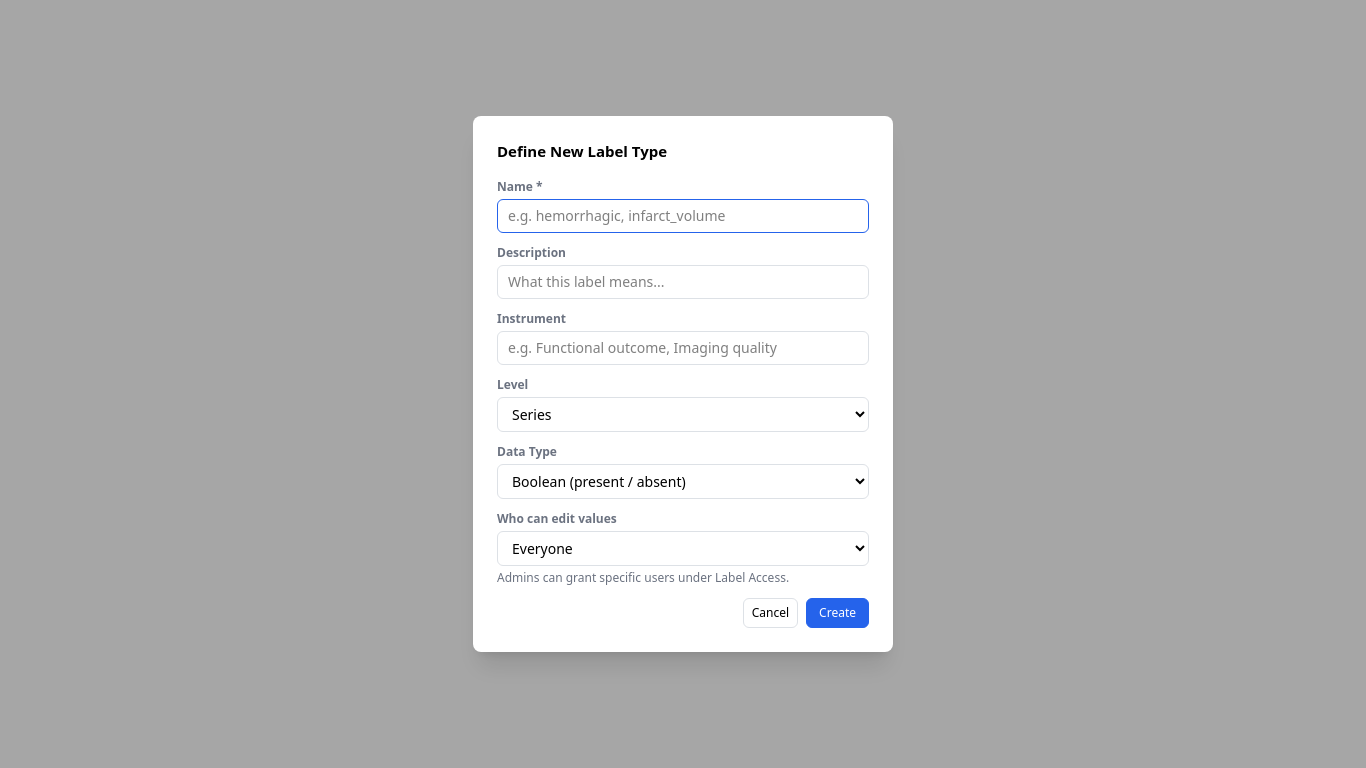
it: LabelDefModal › create mode rejects an invalid name with an error naming the field
This screenshot has width=1366, height=768.
Type "my label" into the field with placeholder "e.g. hemorrhagic, infarct_volume".
click(683, 216); type("my label")  # box [497,198,869,232]
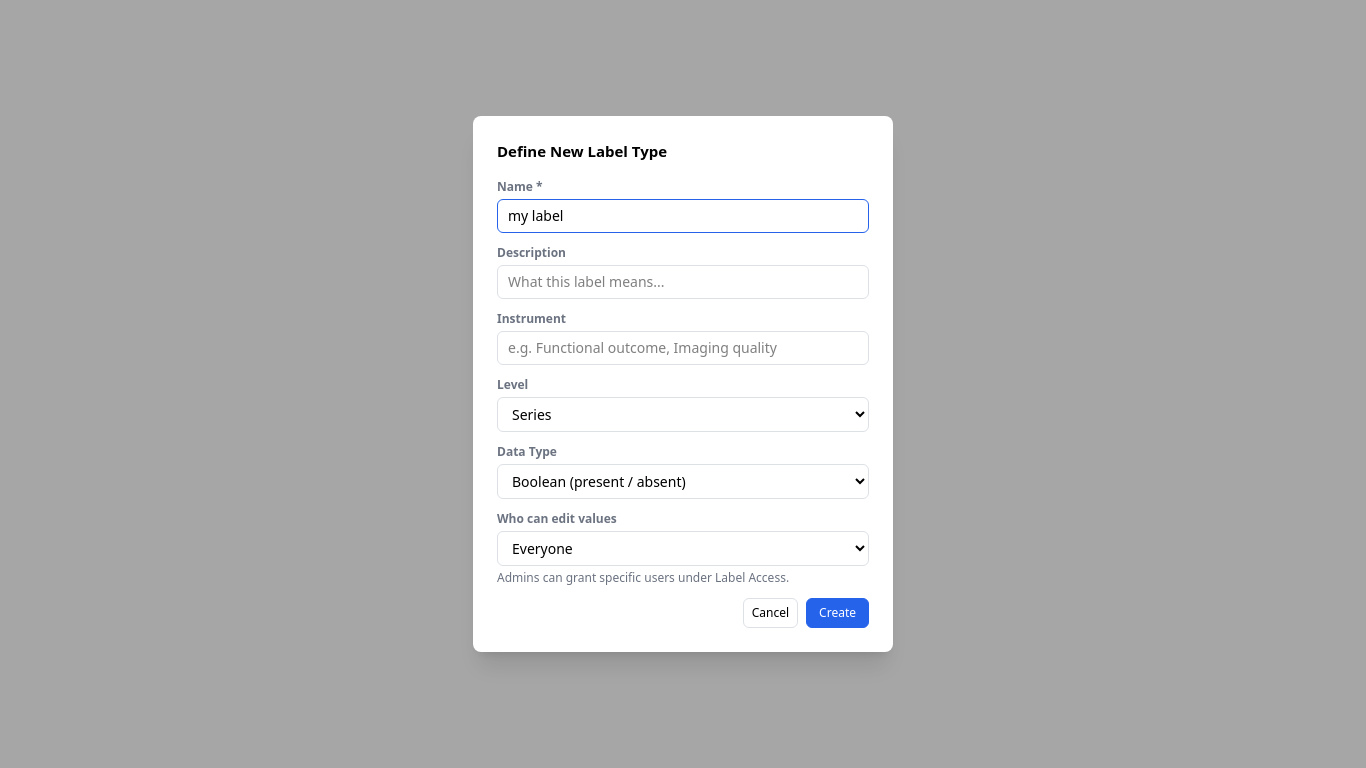
Click the button "Create".
click(838, 613)  # box [806,598,869,628]
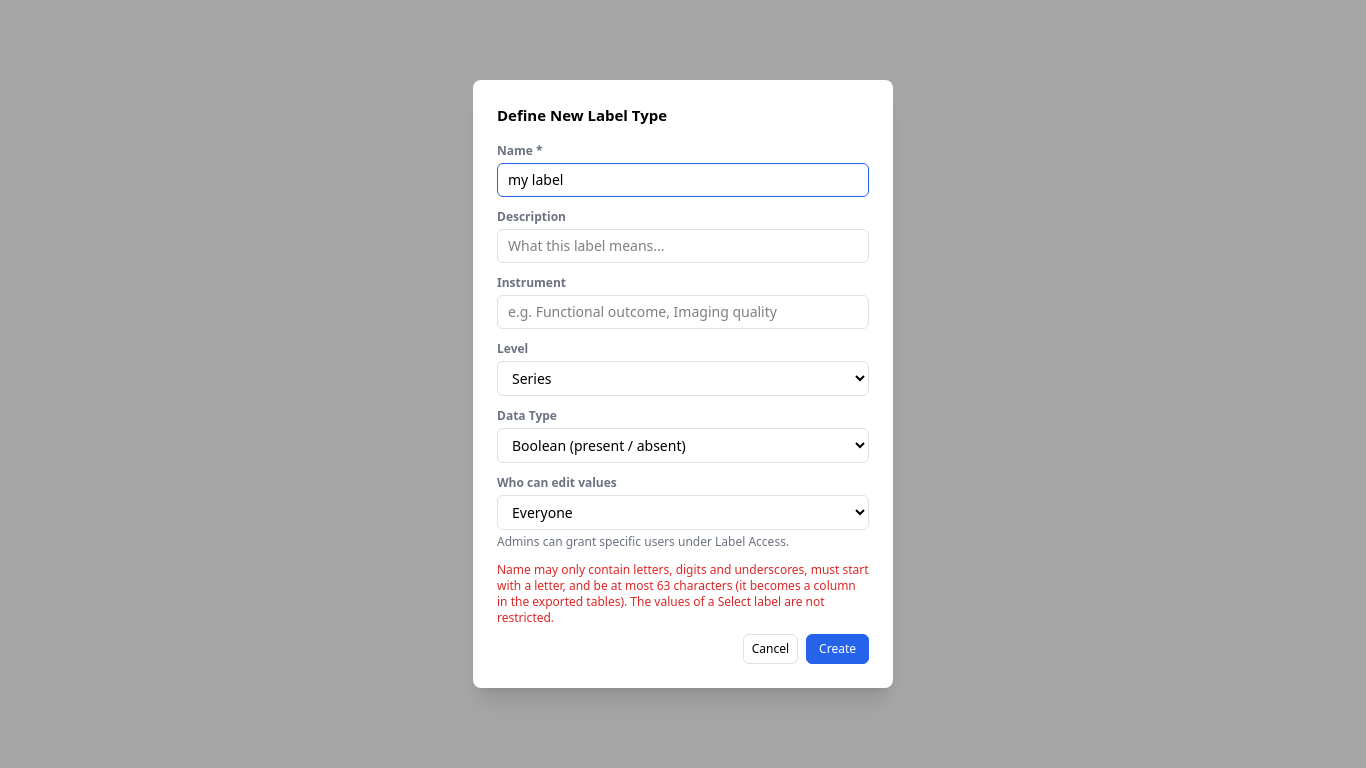
Now the text "Name may only contain letters" is shown, box [497,561,869,626]
